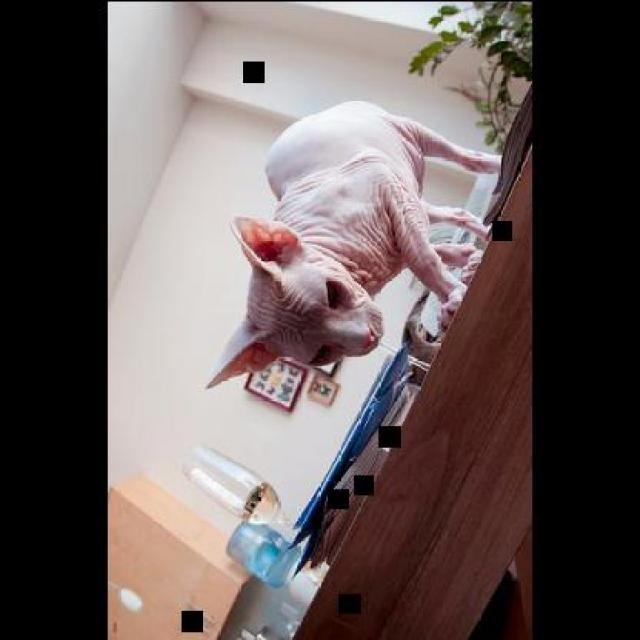unauthorized: (204, 97, 502, 389)
